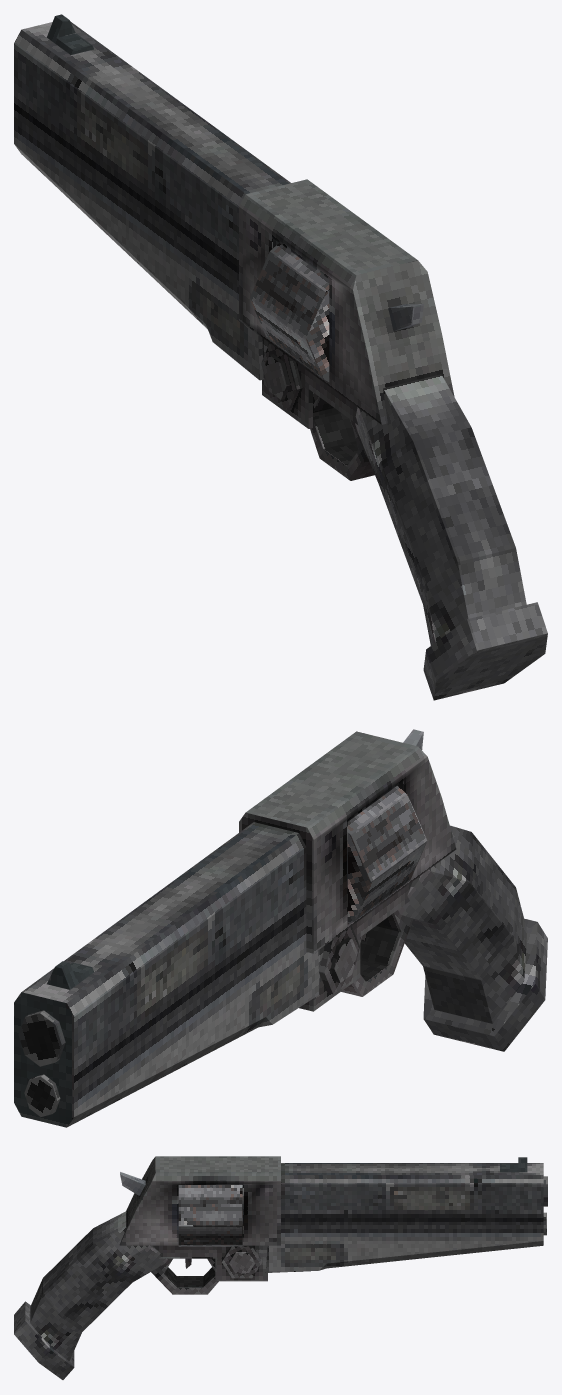
Rendered from Revolver_With_SeparateMag.glb.
3 renders of one model, top to bottom at view 1: azimuth 30°, elevation 25°; view 2: azimuth 150°, elevation 25°; view 3: azimuth 270°, elevation 25°, orthographic. The views are drawn at different scales.
Parts seen in each view (by area): view 1: Retribution.001, Retribution_Mag; view 2: Retribution.001, Retribution_Mag; view 3: Retribution.001, Retribution_Mag.
Part boxes in pixels (<box>): Retribution.001: <box>14,14,547,700</box>; Retribution_Mag: <box>249,243,329,381</box>; Retribution.001: <box>14,729,547,1127</box>; Retribution_Mag: <box>347,785,427,924</box>; Retribution.001: <box>14,1156,547,1379</box>; Retribution_Mag: <box>178,1185,242,1246</box>.
Size of the model in its own units: 0.2056 by 0.591 by 1.35.
Materials: 2 (2 with a texture image).
